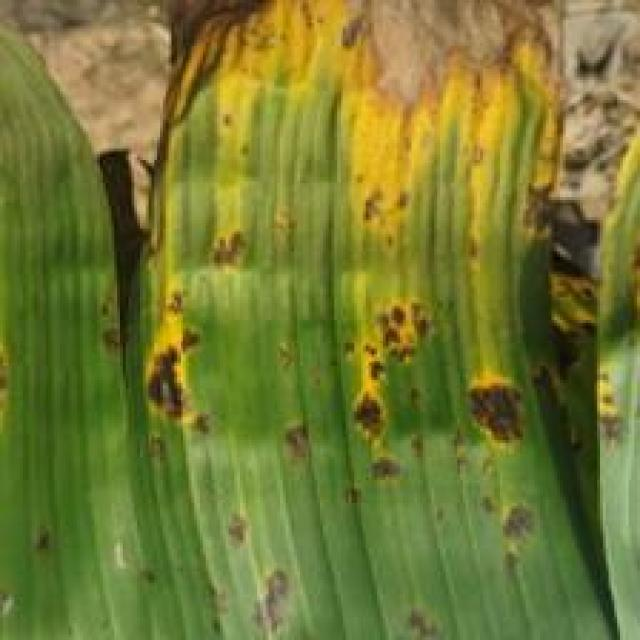Downey_mildrew: (153, 0, 640, 522), (146, 517, 568, 640), (86, 262, 197, 436)
